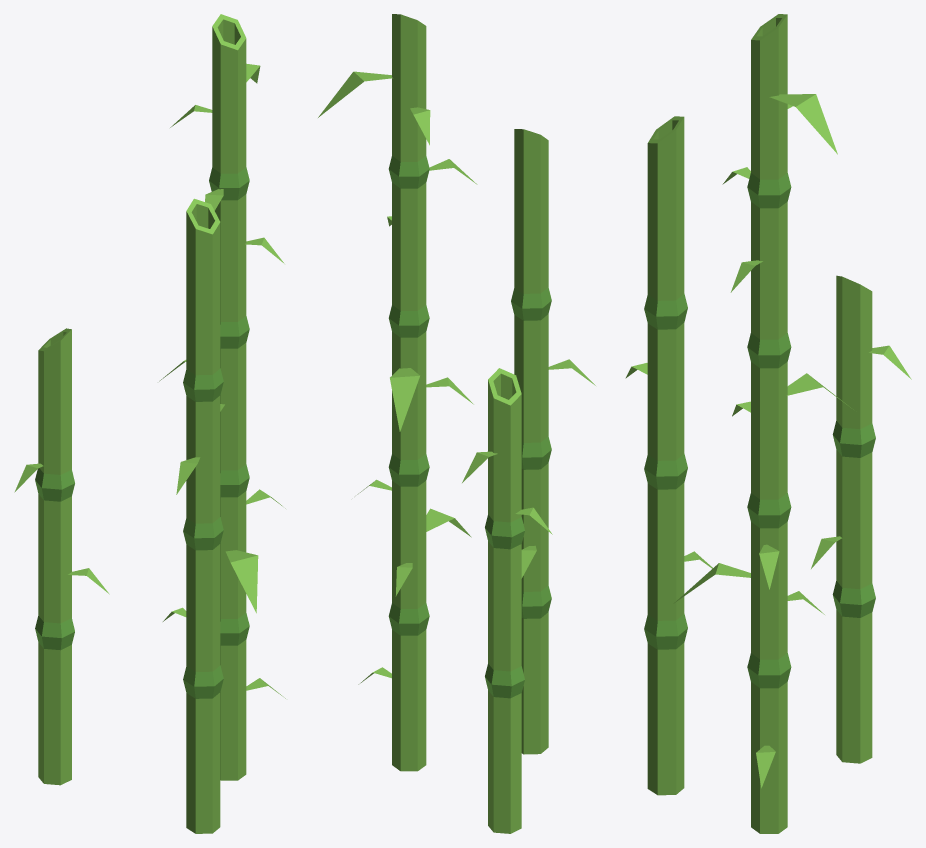
Rendered from Bamboos_01.fbx.
The picture shows the model from 3 angles, left to right: view 1: azimuth 30°, elevation 25°; view 2: azimuth 150°, elevation 25°; view 3: azimuth 270°, elevation 25°; orthographic projection. The views are drawn at different scales.
Parts seen in each view (by area): view 1: Bamboos_01; view 2: Bamboos_01; view 3: Bamboos_01.
Part boxes in pixels (left/top/right/bottom): Bamboos_01: left=14, top=14, right=285, bottom=833; Bamboos_01: left=318, top=14, right=595, bottom=833; Bamboos_01: left=625, top=14, right=911, bottom=833.
Size of the model in its own units: 128 by 387 by 124.
